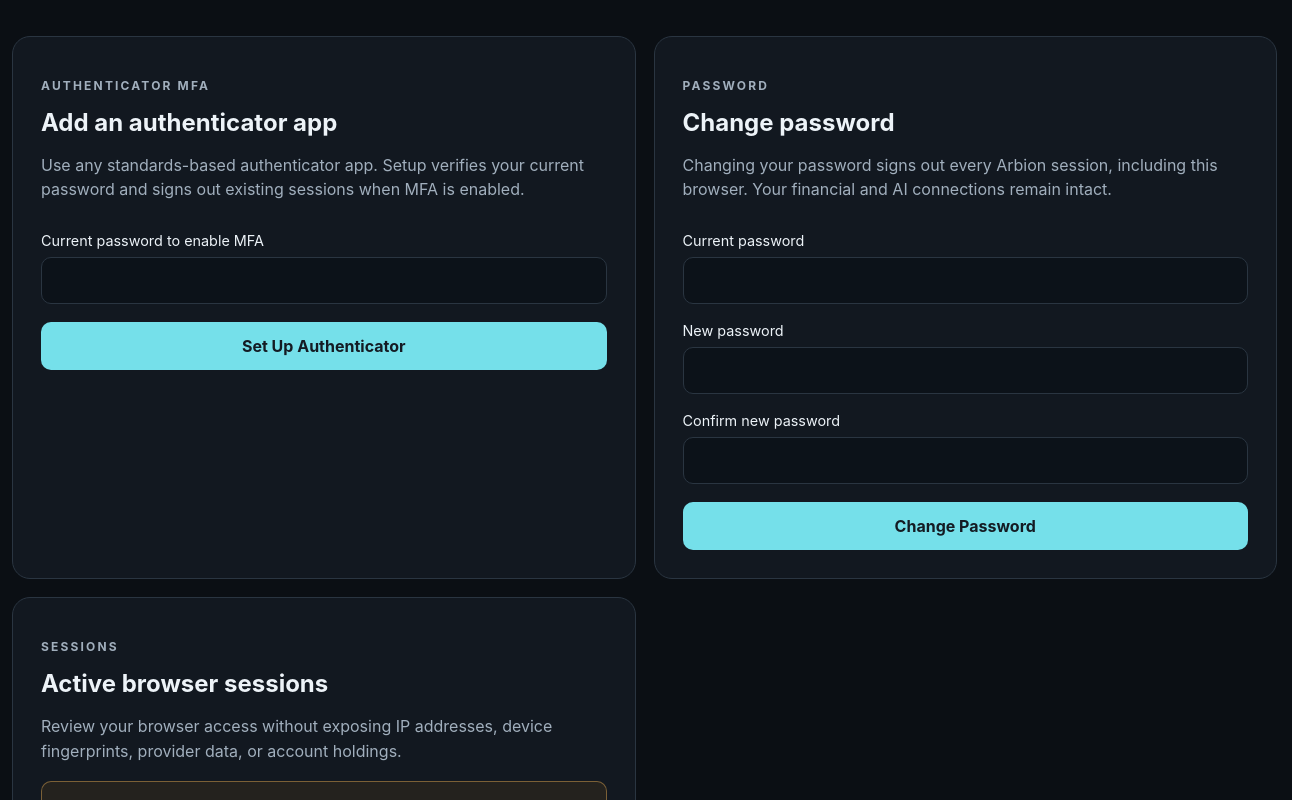
it: SecurityControls › requires matching password confirmation before sending
Type "correct horse battery staple" into the password field labelled "Current password" at {"x": 965, "y": 281}, box [682,257,1248,304]
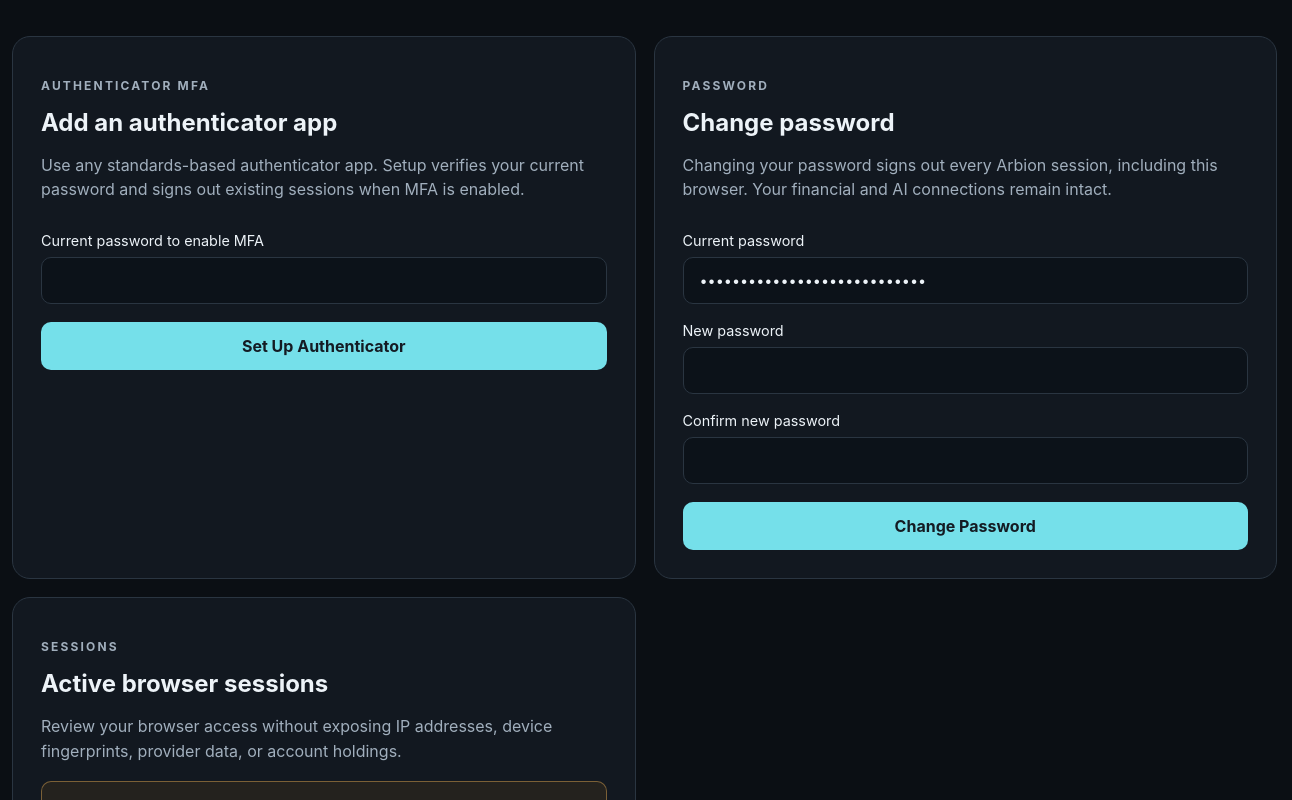
Type "a different secure passphrase" into the password field labelled "New password" at {"x": 965, "y": 371}, box [682,347,1248,394]
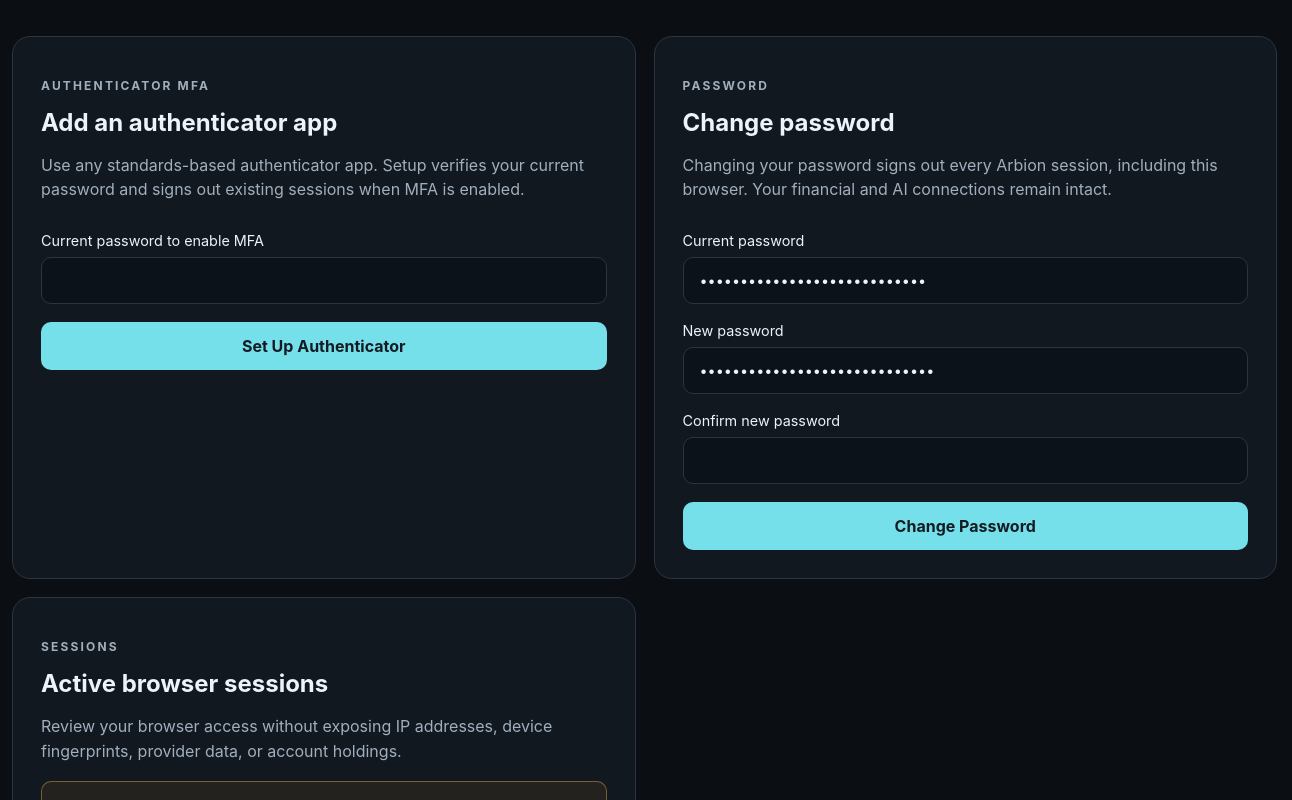
Type "does not match at all" into the password field labelled "Confirm new password" at {"x": 965, "y": 461}, box [682,437,1248,484]
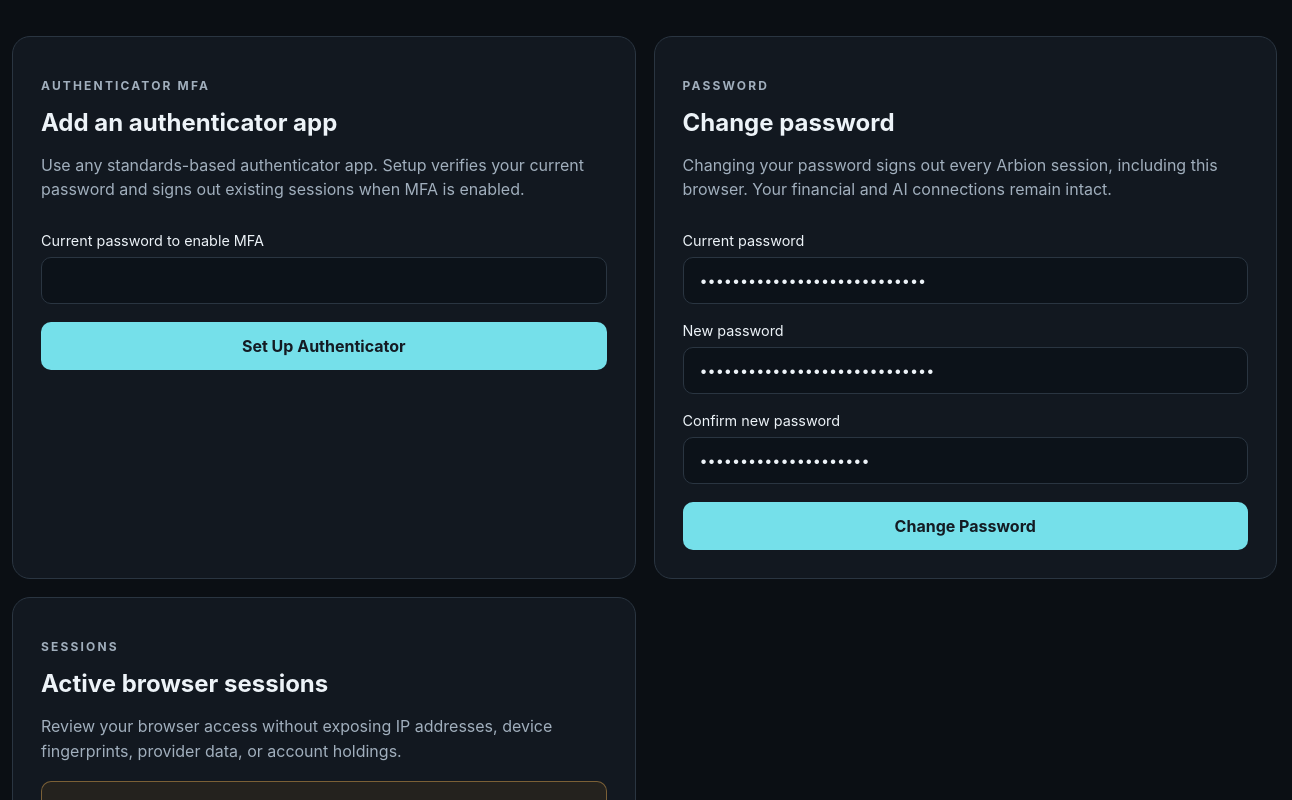
Click the button "Change Password" at {"x": 965, "y": 526}, box [682,502,1248,550]
(page scrolled)
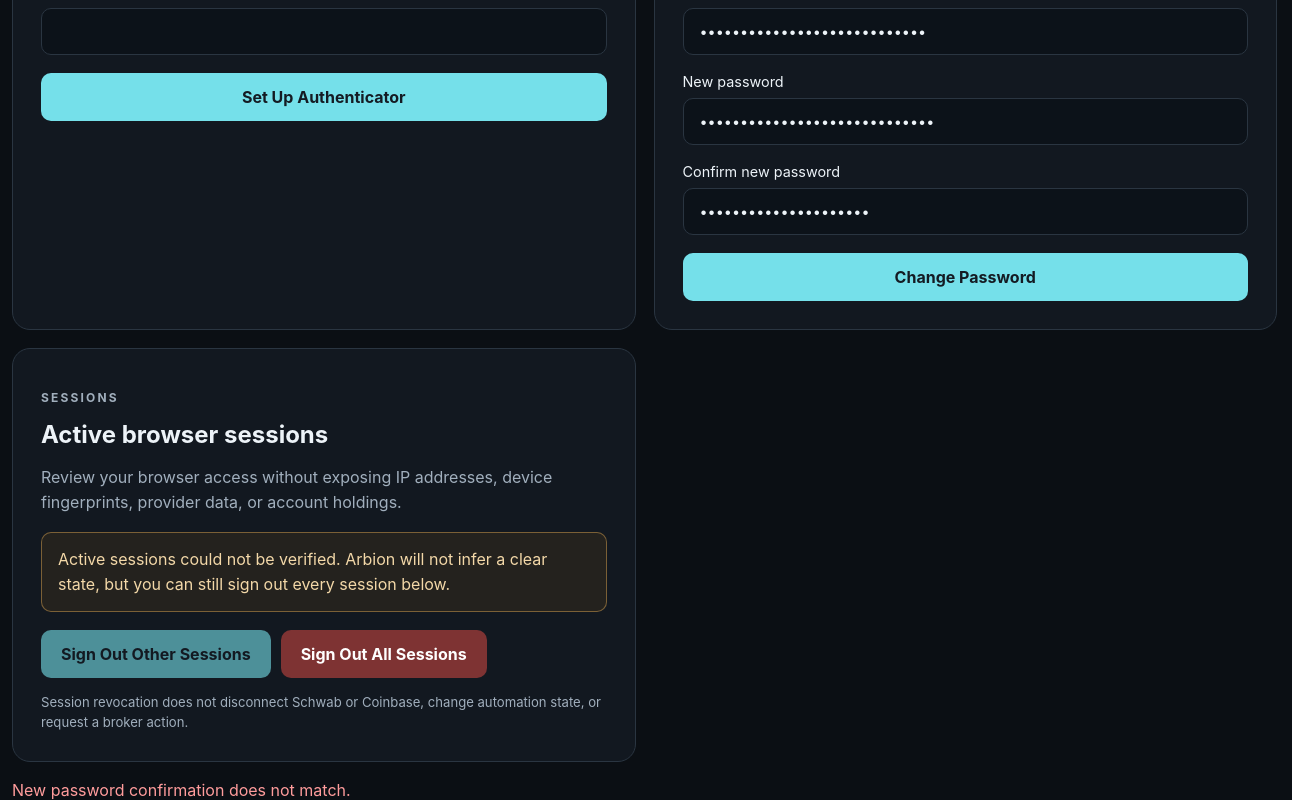
Expected: the message "New password confirmation does not match." is shown, [12,780,351,799]
